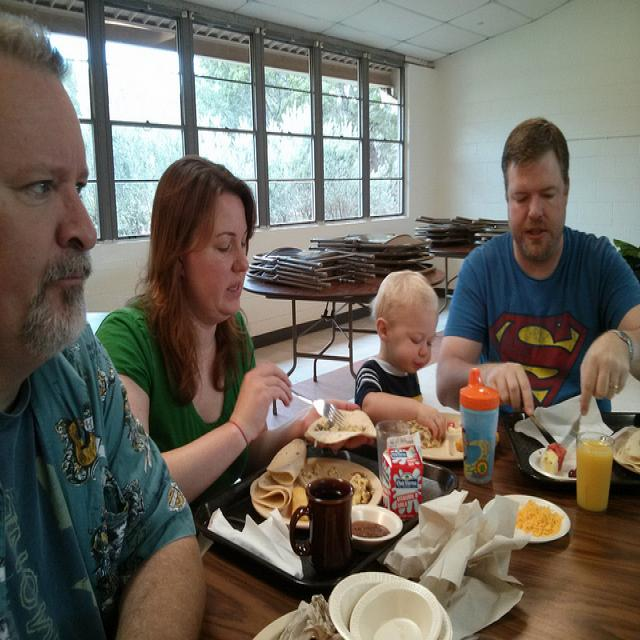chair: (253, 247, 372, 269), (248, 270, 374, 290), (250, 262, 374, 279), (309, 233, 433, 249), (359, 239, 433, 258), (613, 235, 640, 283), (414, 215, 508, 226), (415, 224, 509, 234), (377, 251, 435, 266), (415, 231, 505, 239), (425, 237, 482, 247)
dining table: (199, 369, 640, 633), (243, 267, 445, 382), (428, 242, 476, 316)
